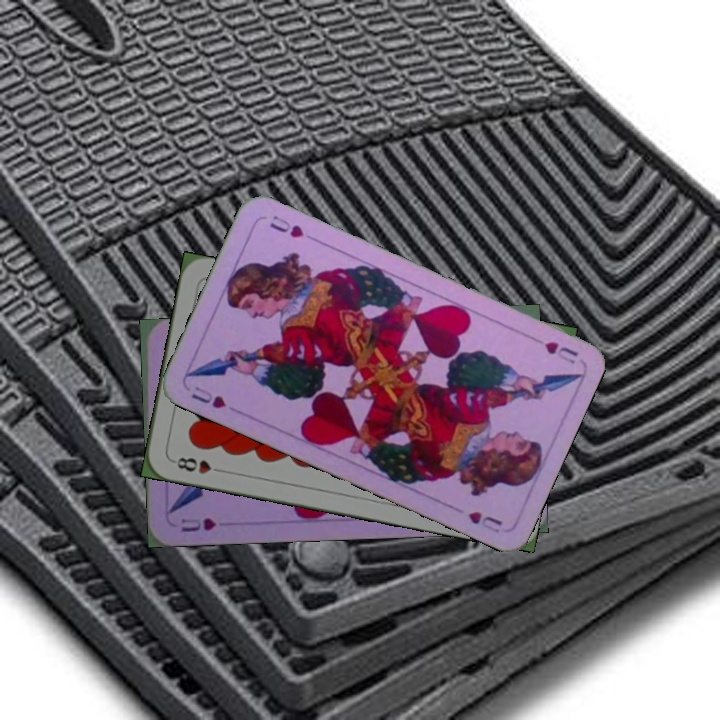H8: (169, 453, 227, 477)
HU: (540, 337, 581, 367), (187, 382, 229, 411), (177, 514, 219, 535)
